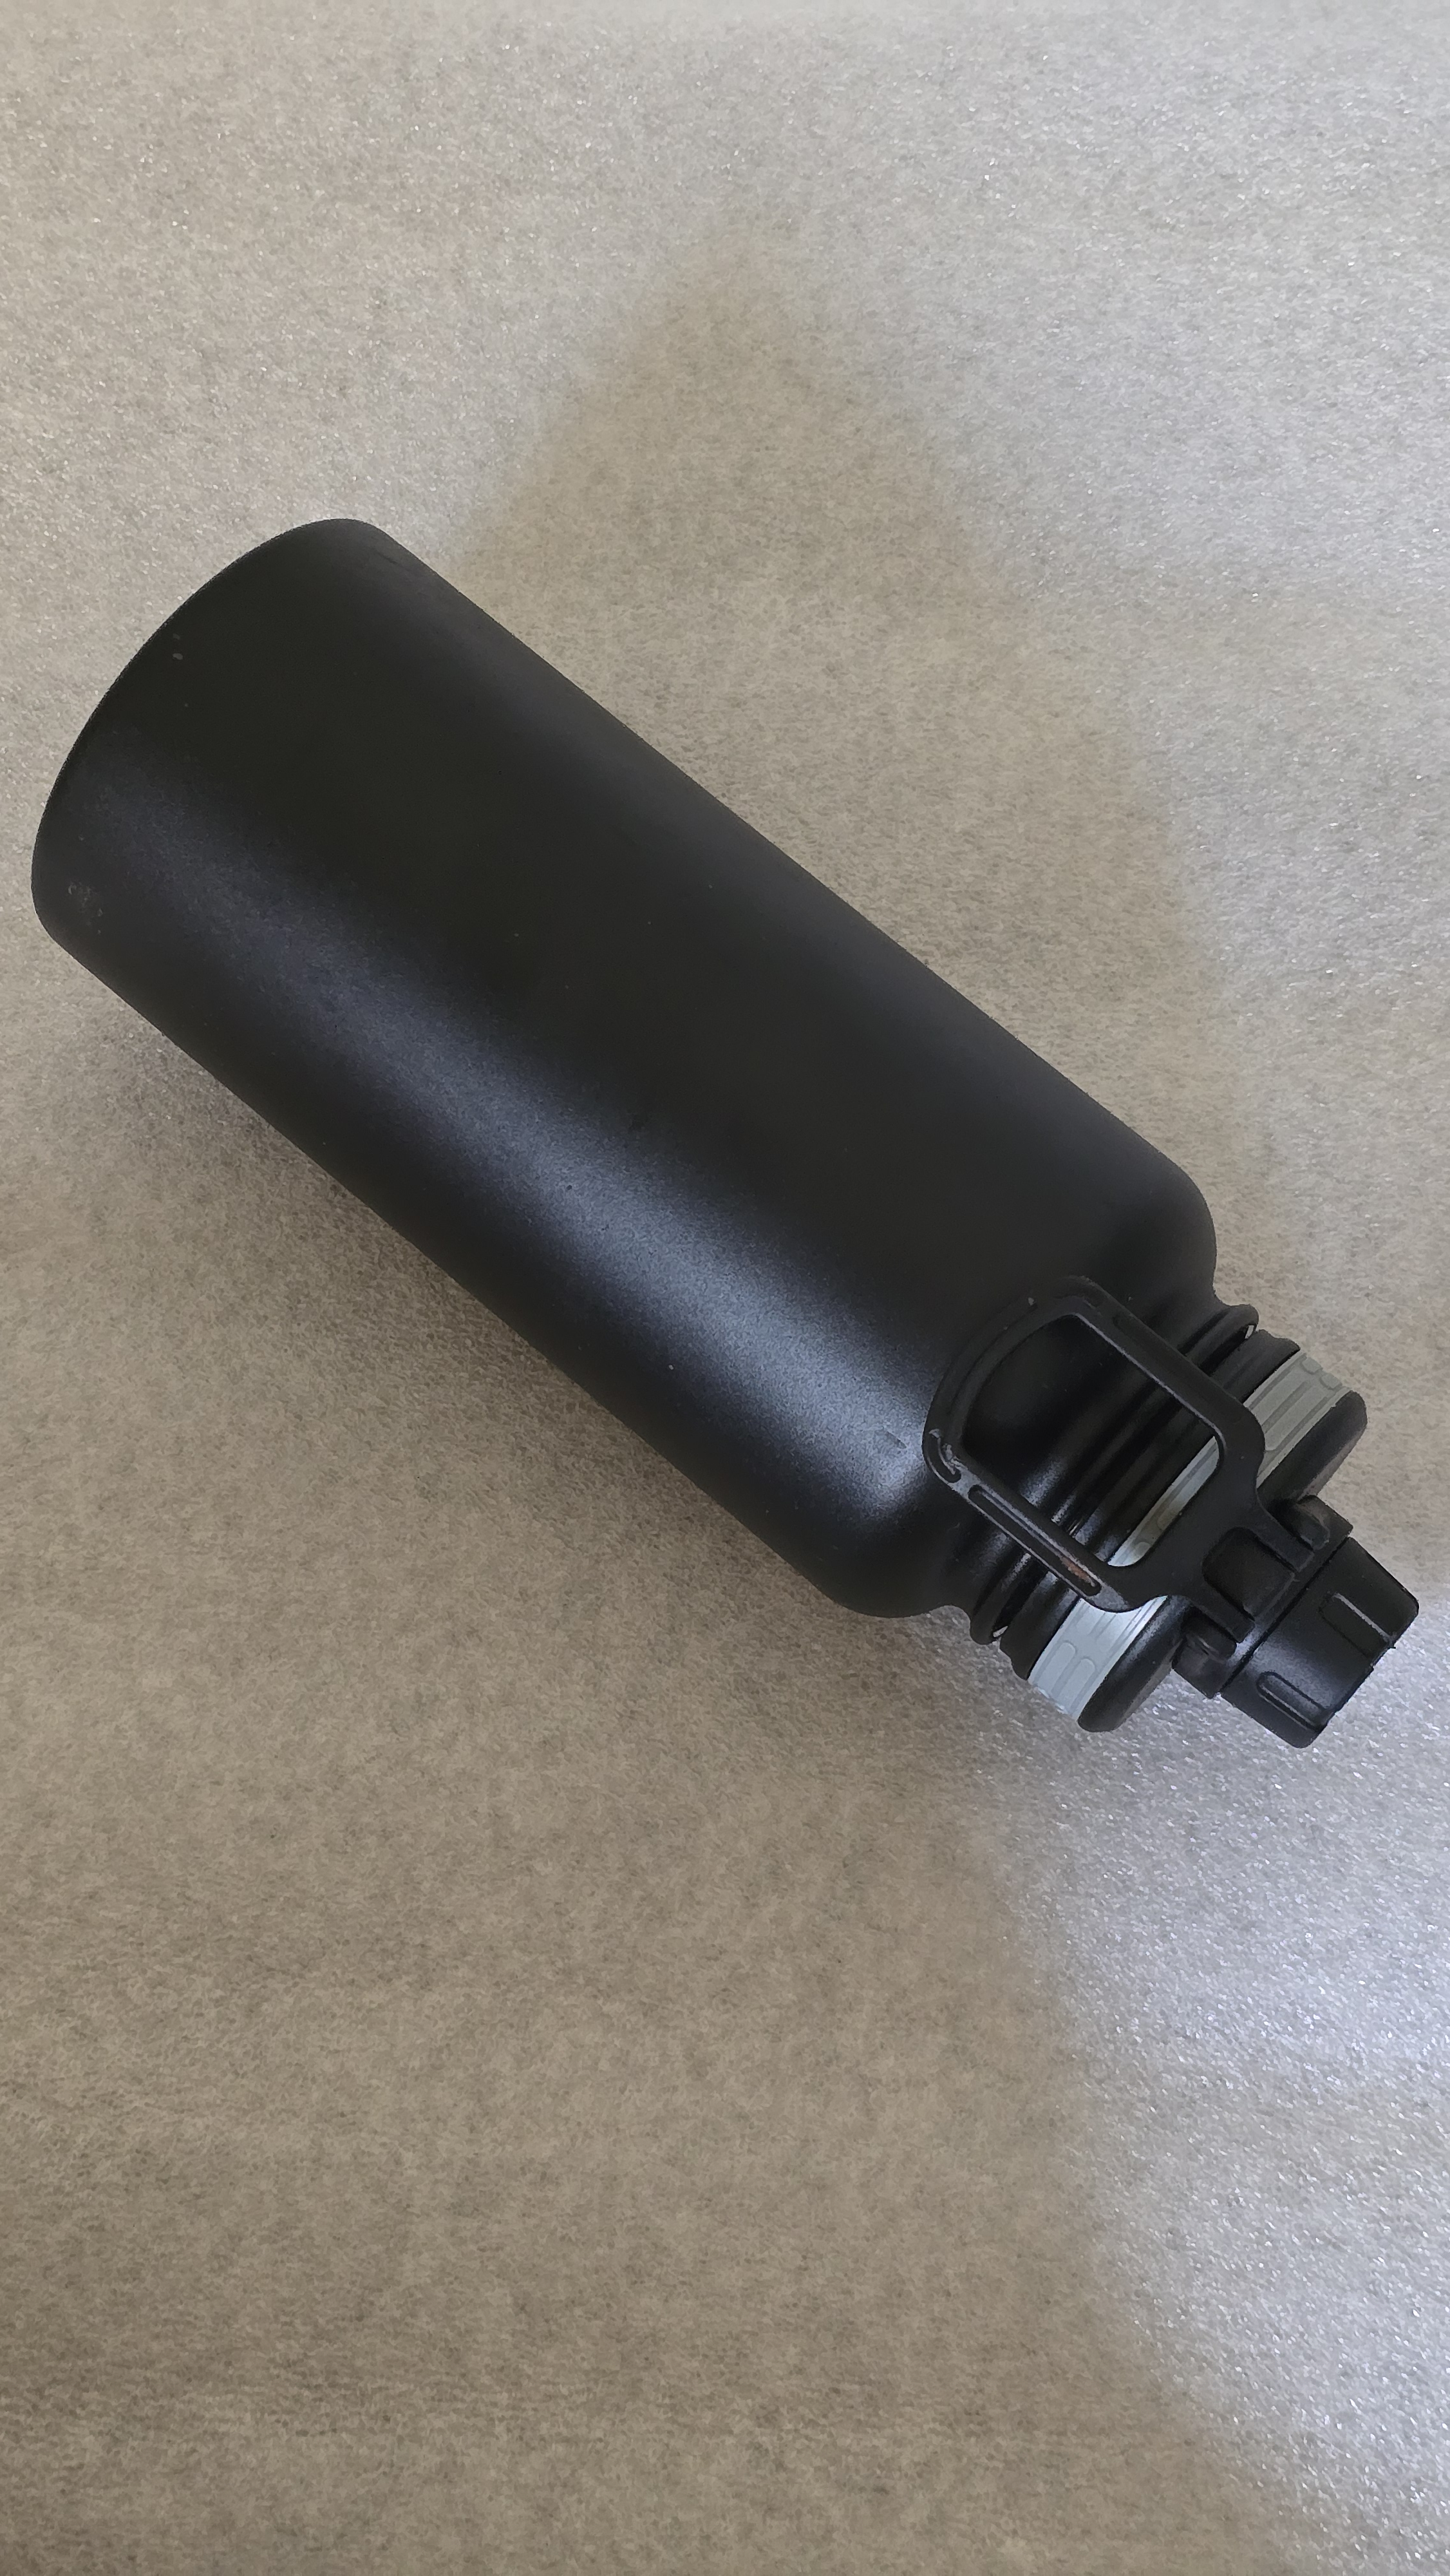bottle: (31, 469, 1408, 1763)
